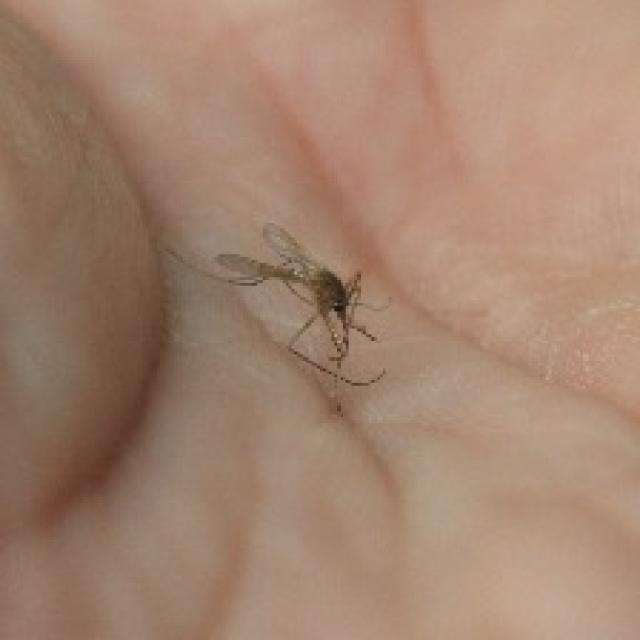culex: (212, 217, 388, 386)
